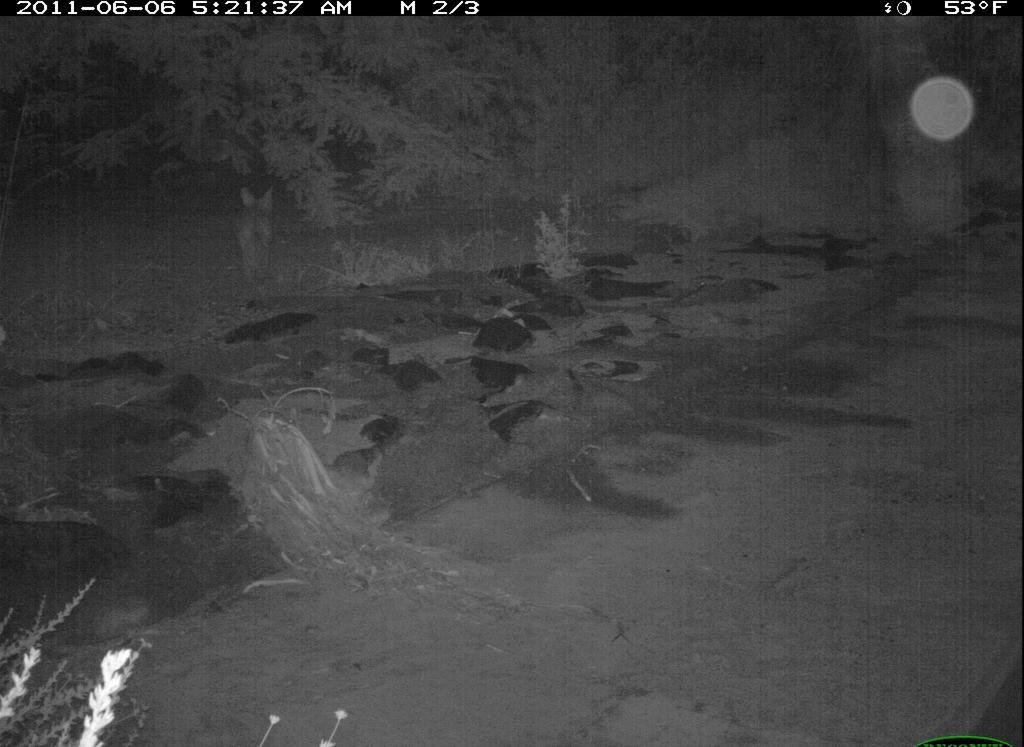coyote: (230, 177, 282, 300)
